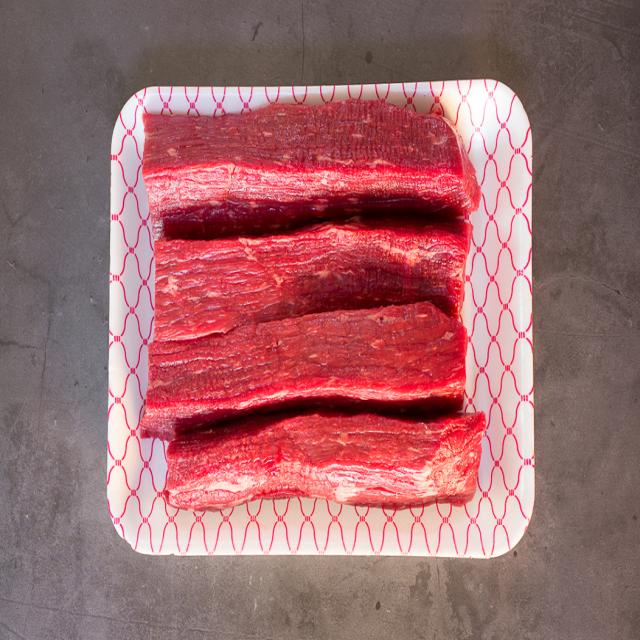beef: (138, 97, 477, 231), (133, 303, 473, 423), (144, 233, 471, 332), (156, 416, 486, 511)
